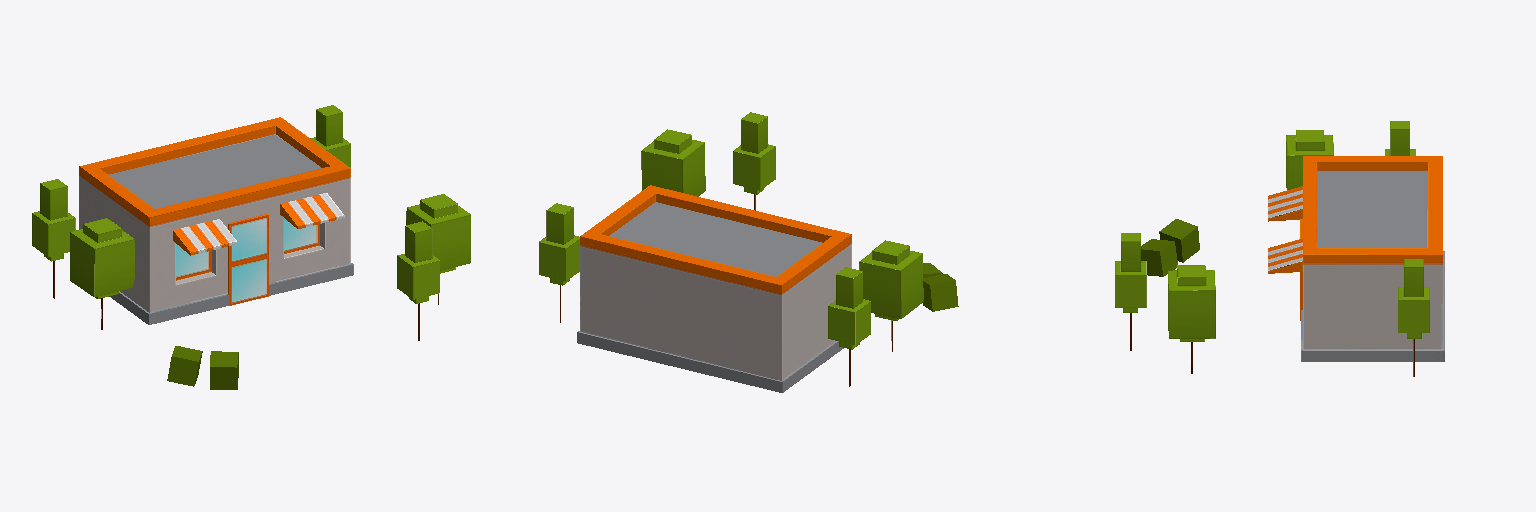
3 renders of one model, left to right at view 1: azimuth 30°, elevation 25°; view 2: azimuth 150°, elevation 25°; view 3: azimuth 270°, elevation 25°, orthographic.
Visible parts, largest first — view 1: business_cafe_Mesh.9255, Tree_3_499_2.246_Mesh.9281, Tree_3_499_2.245_Mesh.9263, Tree_2_3_61.404_Mesh.9266, Tree_2_3_61.415_Mesh.9280, Tree_2_3_61.416_Mesh.9282, Cube_51.150_Mesh.9265, Cube_51.149_Mesh.9264; view 2: business_cafe_Mesh.9255, Tree_3_499_2.246_Mesh.9281, Tree_3_499_2.245_Mesh.9263, Tree_2_3_61.415_Mesh.9280, Tree_2_3_61.404_Mesh.9266, Tree_2_3_61.416_Mesh.9282, Cube_51.149_Mesh.9264; view 3: business_cafe_Mesh.9255, Tree_3_499_2.245_Mesh.9263, Tree_2_3_61.404_Mesh.9266, Tree_2_3_61.416_Mesh.9282, Tree_3_499_2.246_Mesh.9281, Cube_51.150_Mesh.9265, Cube_51.149_Mesh.9264, Tree_2_3_61.415_Mesh.9280.
Part boxes in pixels (left/top/right/bottom): business_cafe_Mesh.9255: left=79, top=117, right=353, bottom=324; Tree_3_499_2.246_Mesh.9281: left=70, top=218, right=134, bottom=329; Tree_3_499_2.245_Mesh.9263: left=406, top=194, right=470, bottom=304; Tree_2_3_61.404_Mesh.9266: left=397, top=221, right=439, bottom=340; Tree_2_3_61.415_Mesh.9280: left=32, top=179, right=75, bottom=298; Tree_2_3_61.416_Mesh.9282: left=310, top=105, right=350, bottom=167; Cube_51.150_Mesh.9265: left=210, top=351, right=238, bottom=389; Cube_51.149_Mesh.9264: left=167, top=346, right=202, bottom=386; business_cafe_Mesh.9255: left=577, top=185, right=851, bottom=392; Tree_3_499_2.246_Mesh.9281: left=859, top=240, right=923, bottom=351; Tree_3_499_2.245_Mesh.9263: left=641, top=129, right=705, bottom=196; Tree_2_3_61.415_Mesh.9280: left=828, top=267, right=870, bottom=386; Tree_2_3_61.404_Mesh.9266: left=733, top=112, right=775, bottom=210; Tree_2_3_61.416_Mesh.9282: left=539, top=203, right=579, bottom=322; Cube_51.149_Mesh.9264: left=923, top=274, right=958, bottom=311; business_cafe_Mesh.9255: left=1268, top=156, right=1444, bottom=361; Tree_3_499_2.245_Mesh.9263: left=1168, top=265, right=1215, bottom=373; Tree_2_3_61.404_Mesh.9266: left=1115, top=233, right=1146, bottom=350; Tree_2_3_61.416_Mesh.9282: left=1398, top=259, right=1429, bottom=376; Tree_3_499_2.246_Mesh.9281: left=1286, top=130, right=1333, bottom=189; Cube_51.150_Mesh.9265: left=1141, top=239, right=1177, bottom=276; Cube_51.149_Mesh.9264: left=1159, top=219, right=1199, bottom=262; Tree_2_3_61.415_Mesh.9280: left=1385, top=121, right=1415, bottom=155.
Size of the model in its own units: 1.84 by 0.6817 by 1.65.
Materials: 4 (3 with a texture image).